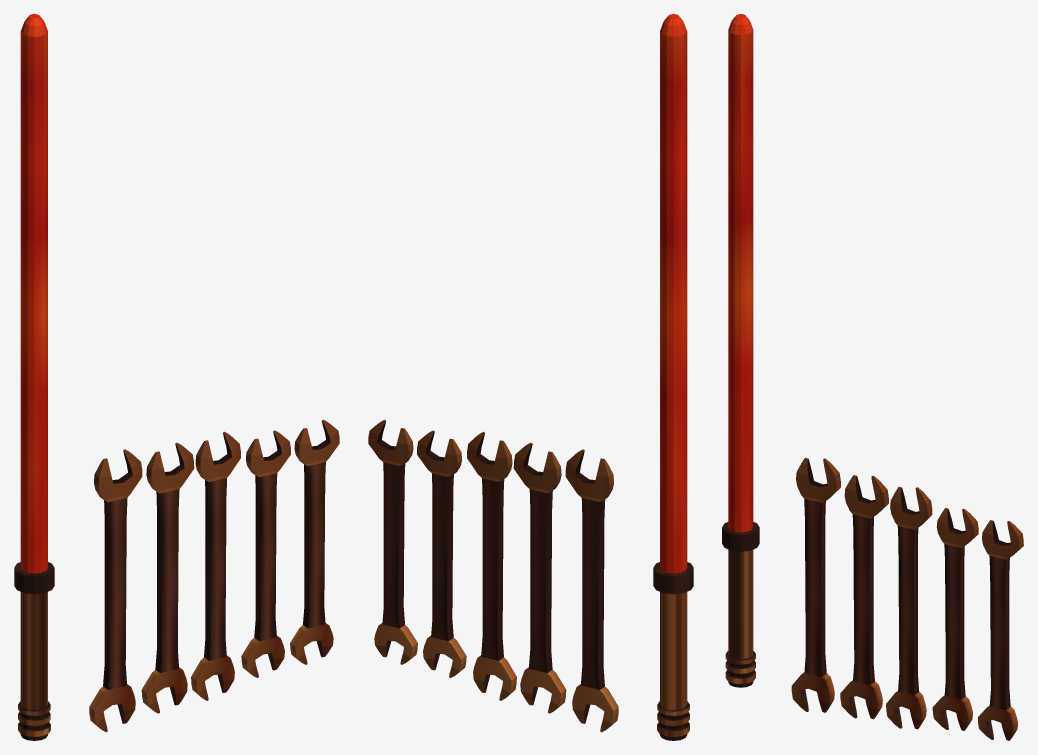
The model's file is wrench.glb.
The picture shows the model from 3 angles, left to right: view 1: azimuth 30°, elevation 25°; view 2: azimuth 150°, elevation 25°; view 3: azimuth 330°, elevation 25°; orthographic projection. The views are drawn at different scales.
Visible parts, largest first — view 1: Light, Wrench24-27mm, Wrench20-21mm, Wrench19-22mm, Wrench16-18mm, Wrench14-17mm, Cylinder; view 2: Light, Wrench24-27mm, Wrench20-21mm, Wrench19-22mm, Wrench16-18mm, Wrench14-17mm, Cylinder; view 3: Light, Wrench24-27mm, Wrench20-21mm, Wrench19-22mm, Wrench16-18mm, Wrench14-17mm, Cylinder.
Part boxes in pixels (box(x1,y1,x2,y2)): Light: box(20, 14, 47, 573); Wrench24-27mm: box(89, 449, 142, 732); Wrench20-21mm: box(141, 442, 194, 713); Wrench19-22mm: box(191, 431, 240, 700); Wrench16-18mm: box(241, 430, 290, 677); Wrench14-17mm: box(290, 419, 339, 664); Cylinder: box(14, 562, 54, 740); Light: box(660, 14, 687, 573); Wrench24-27mm: box(565, 449, 618, 732); Wrench20-21mm: box(513, 442, 566, 713); Wrench19-22mm: box(467, 431, 516, 700); Wrench16-18mm: box(417, 430, 466, 677); Wrench14-17mm: box(368, 419, 417, 664); Cylinder: box(653, 562, 693, 740); Light: box(728, 14, 753, 532); Wrench24-27mm: box(791, 457, 840, 712); Wrench20-21mm: box(840, 475, 888, 719); Wrench19-22mm: box(886, 486, 932, 729); Wrench16-18mm: box(932, 508, 978, 730); Wrench14-17mm: box(977, 520, 1023, 740); Cylinder: box(722, 522, 759, 687).
Bounding box in the file's own units: 4.7 × 10.27 × 0.5136.
Materials: 1 (1 with a texture image).
